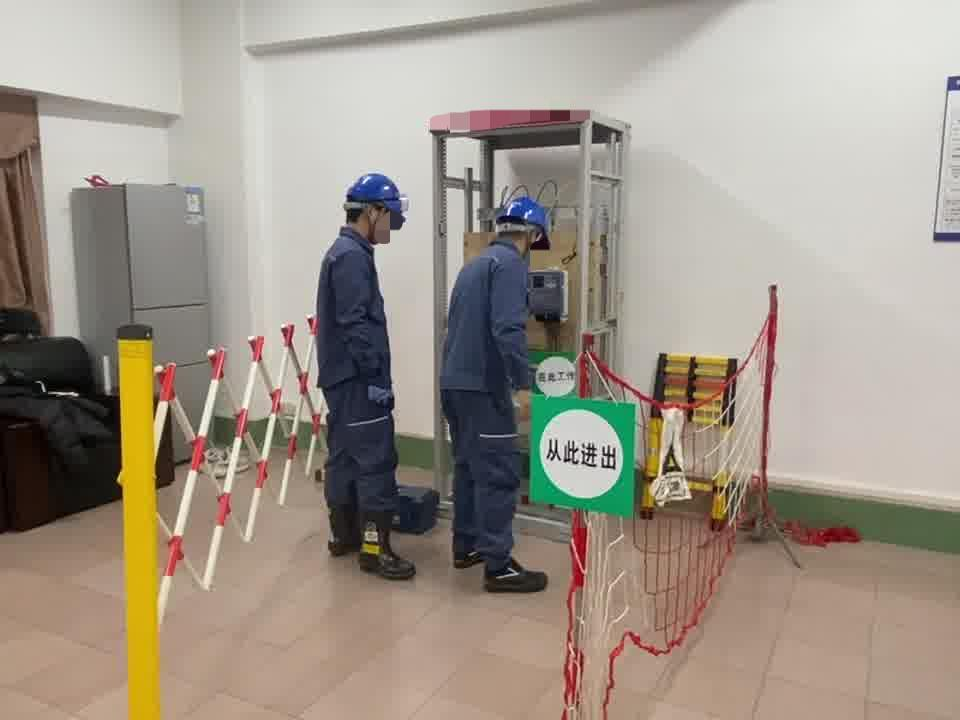halt: (345, 173, 408, 242), (498, 198, 554, 255)
inear: (522, 224, 545, 260), (364, 202, 388, 236)
